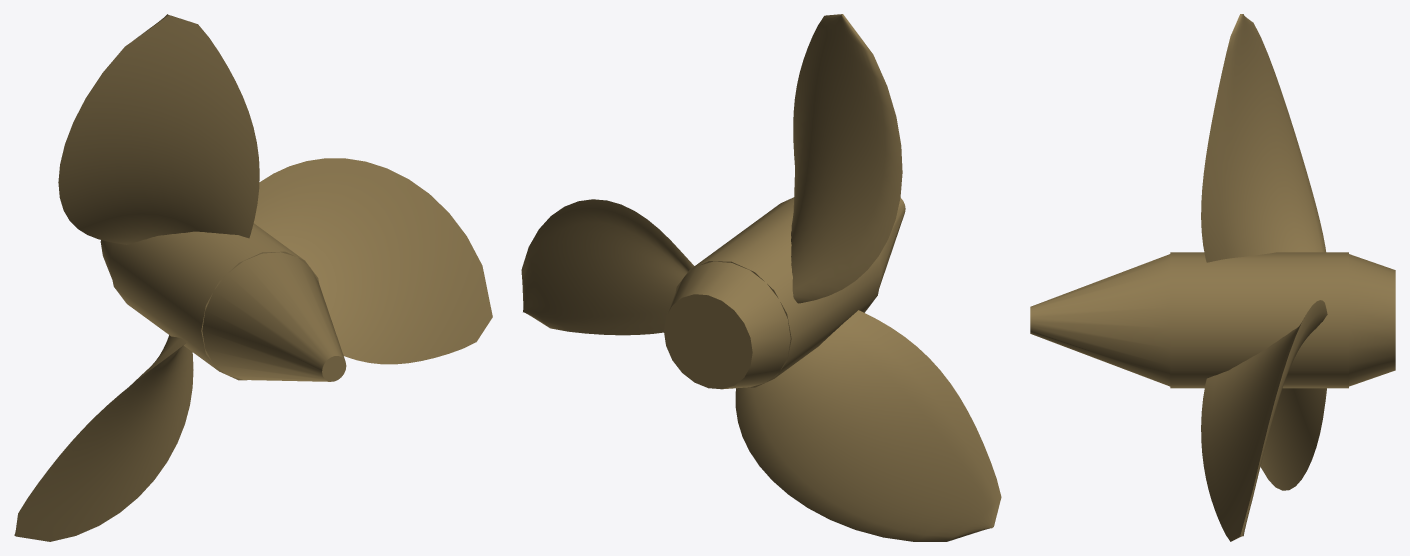
The model's file is propellerPort.obj.
3 views of the same model, side by side, from view 1: azimuth 30°, elevation 25°; view 2: azimuth 150°, elevation 25°; view 3: azimuth 270°, elevation 25° (orthographic). The views are drawn at different scales.
Visible parts, largest first — view 1: propellerPort; view 2: propellerPort; view 3: propellerPort.
Boxes of the visible parts, <box> form: propellerPort: <box>14,14,492,541</box>; propellerPort: <box>521,14,1001,541</box>; propellerPort: <box>1030,14,1395,541</box>.
Bounding box in the file's own units: 1.38 × 1.4 × 0.94.
